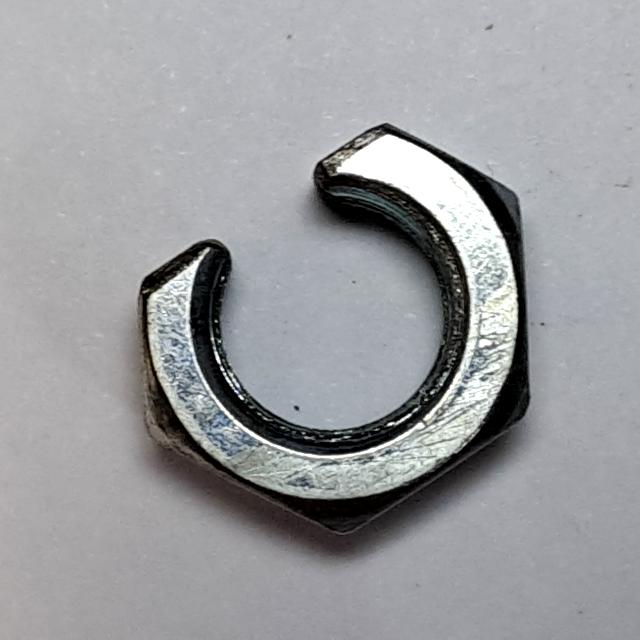Fracture: (122, 113, 560, 544)
